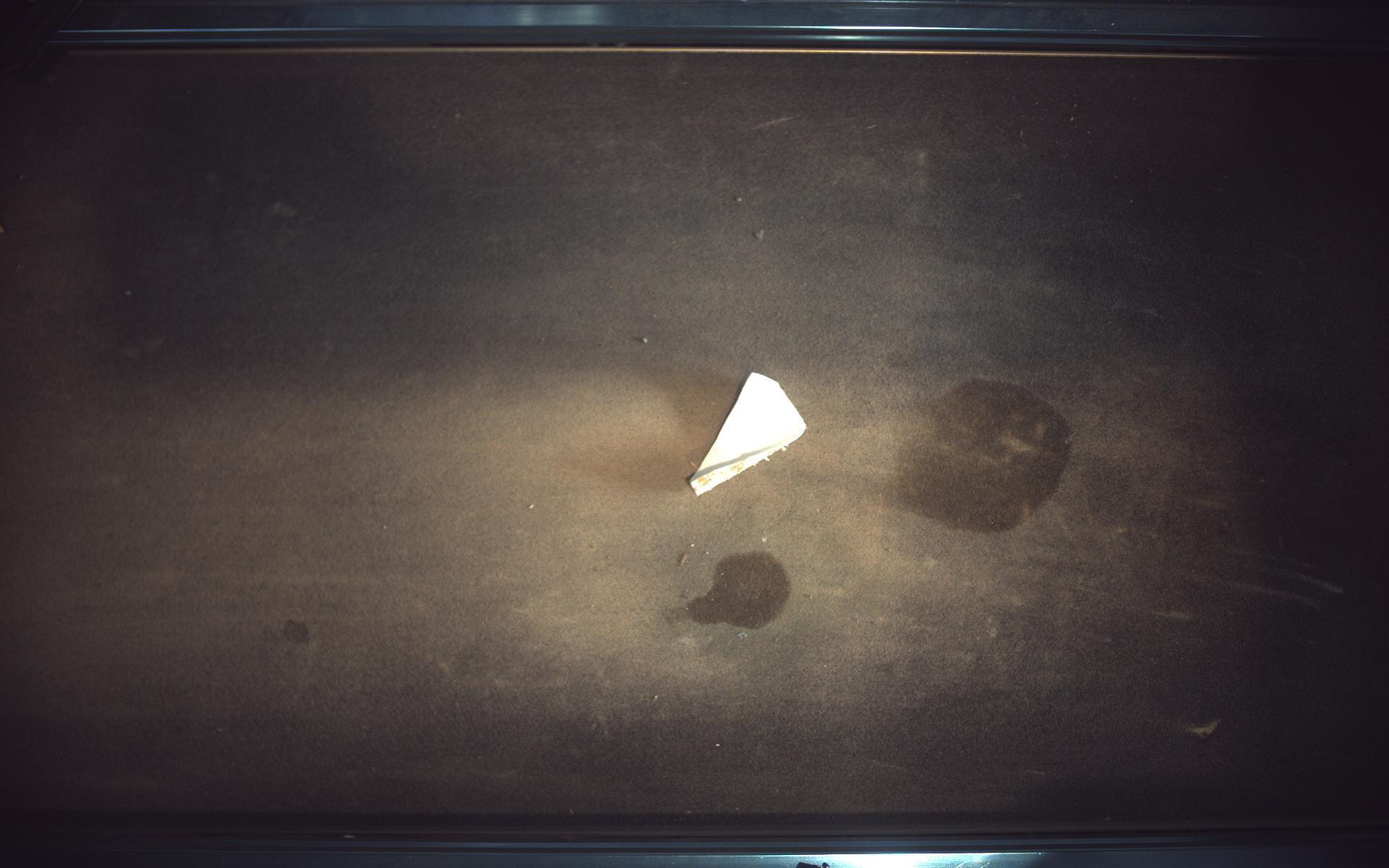plastic: (689, 373, 807, 496)
